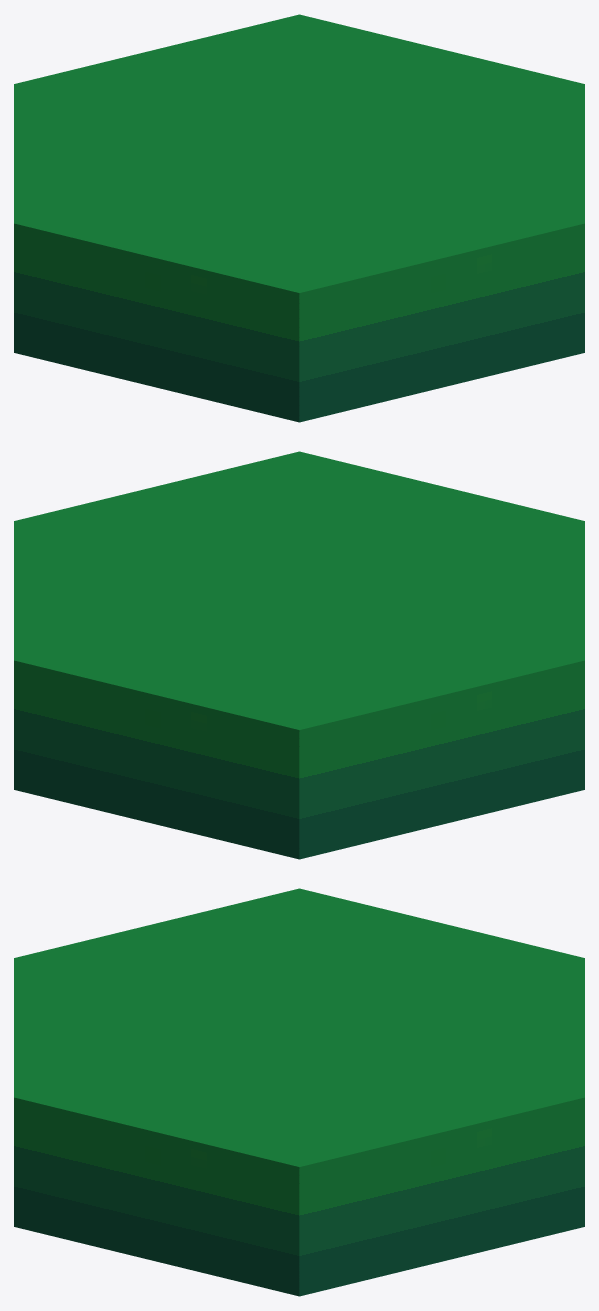
The model's file is Hex_tile_model.gltf.
The picture shows the model from 3 angles, top to bottom: view 1: azimuth 30°, elevation 25°; view 2: azimuth 150°, elevation 25°; view 3: azimuth 270°, elevation 25°; orthographic projection.
Parts seen in each view (by area): view 1: forest; view 2: forest; view 3: forest.
Part boxes in pixels (x1=…): forest: x1=14, y1=14, x2=584, y2=422; forest: x1=14, y1=451, x2=584, y2=859; forest: x1=14, y1=888, x2=584, y2=1296.
Bounding box in the file's own units: 1.15 × 0.25 × 1.
Materials: 1 (1 with a texture image).
